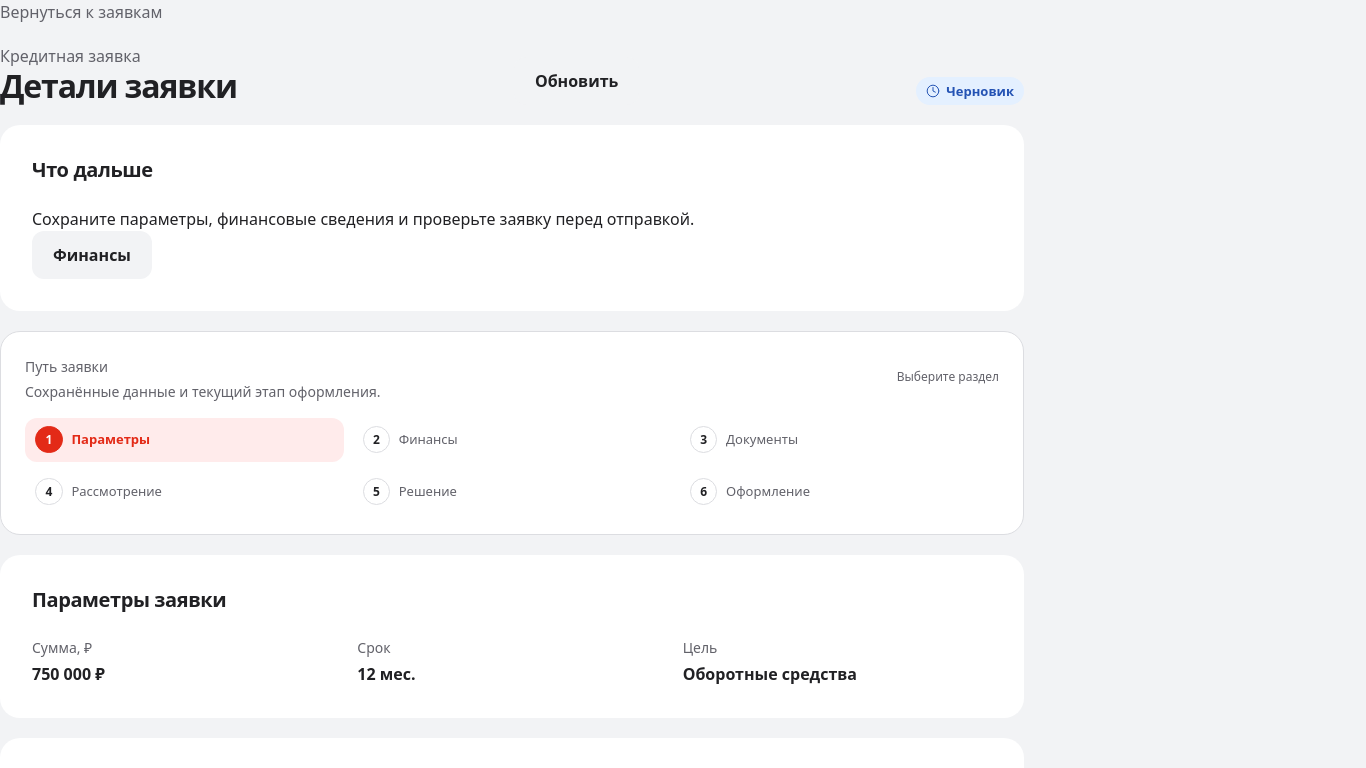
Test case: requires a saved ML profile before submission
Click the tab "4 Рассмотрение" at [117, 491], box [25,470,344,514]
(page scrolled)
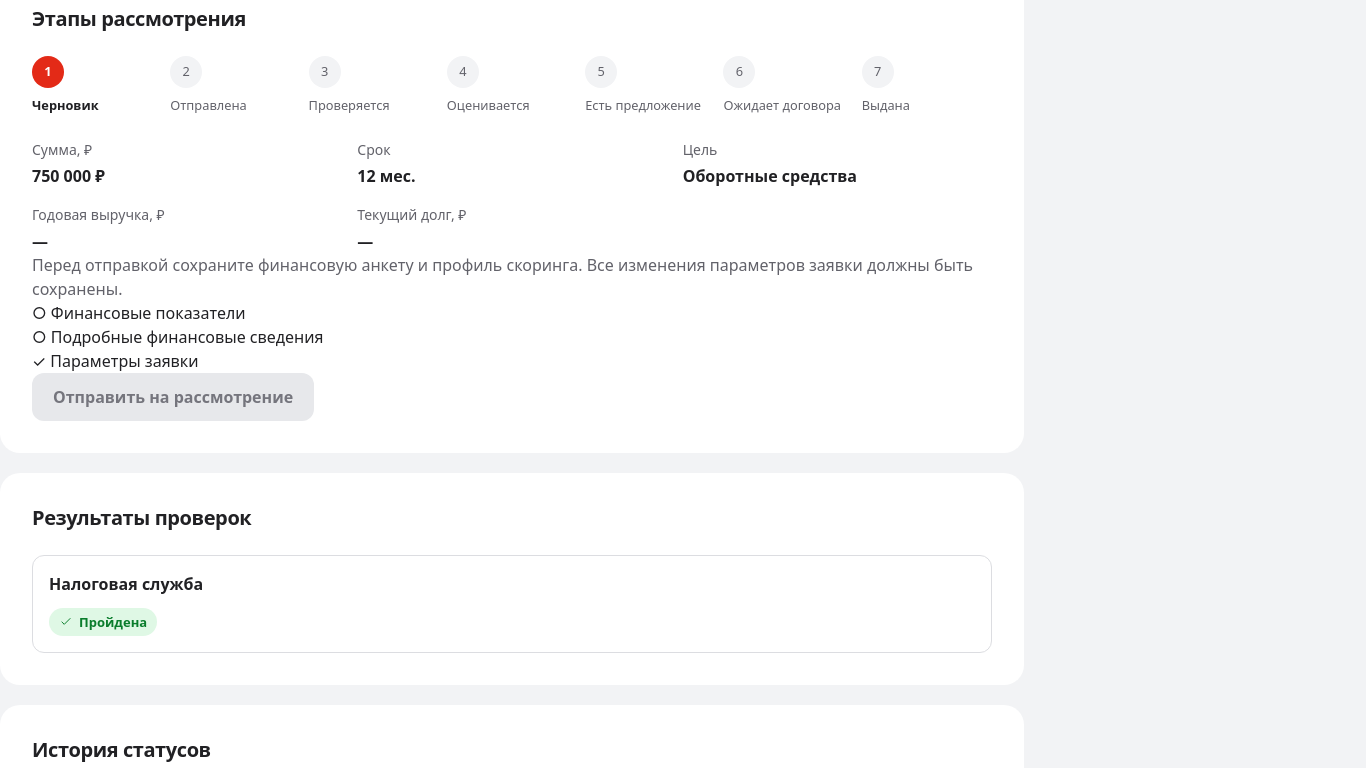
Check: the button "Отправить на рассмотрение" is disabled, box [32,373,314,421]
